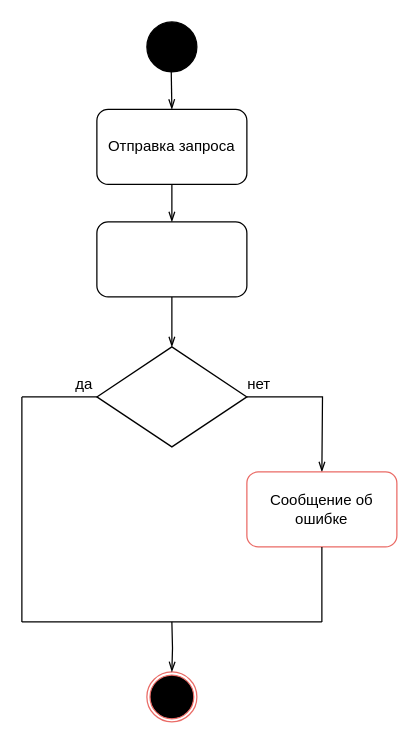
Some shapes in this 419 by 744 pixel diagram are drawn without their labels. Each missing label, with the centre of its shape:
"Произошло добавление?" goes at point 171,396.
"Сервер добавляет в базу" goes at point 171,259.
